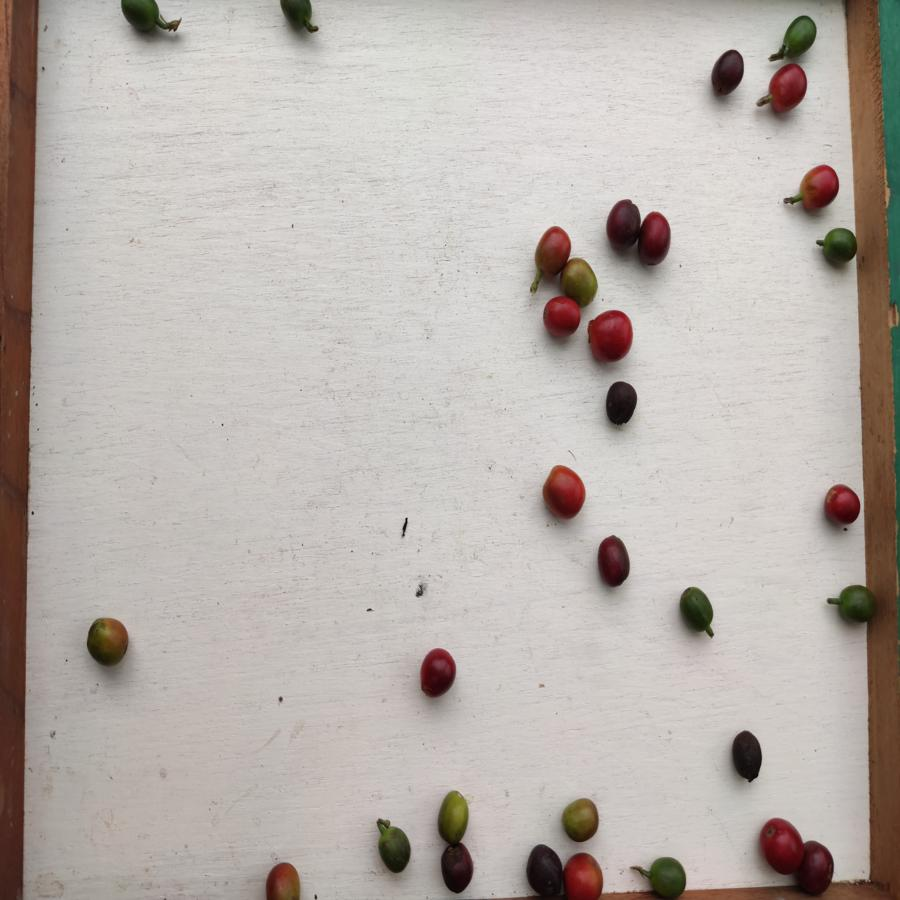Inmaduro: (118, 1, 178, 42), (375, 823, 415, 879), (676, 585, 720, 633), (833, 580, 877, 627), (645, 854, 692, 898), (777, 14, 821, 59), (818, 228, 858, 265)
Maduro: (541, 464, 594, 522), (755, 815, 806, 873), (586, 307, 634, 362), (766, 60, 808, 116), (530, 224, 570, 278), (799, 163, 839, 214), (564, 851, 605, 899), (822, 482, 863, 527), (542, 295, 581, 337)
Pinton: (435, 786, 473, 845), (86, 616, 129, 667), (560, 794, 601, 842), (562, 258, 602, 305), (266, 862, 302, 900)
Sobremaduro: (524, 842, 568, 900), (633, 210, 672, 269), (728, 730, 767, 787), (419, 647, 460, 701), (708, 45, 748, 99), (798, 838, 835, 893), (602, 378, 638, 429), (439, 843, 475, 894), (599, 535, 632, 589), (603, 201, 638, 250)
